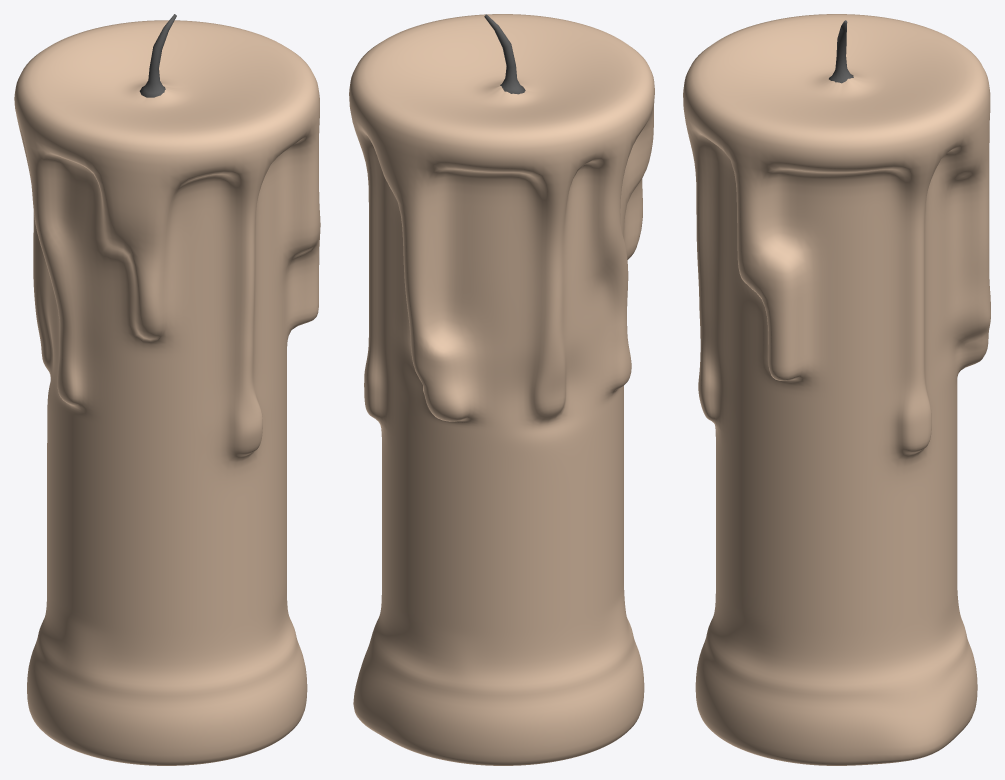
The model's file is UzunMum.fbx.
3 views of the same model, side by side, from view 1: azimuth 30°, elevation 25°; view 2: azimuth 150°, elevation 25°; view 3: azimuth 270°, elevation 25° (orthographic).
Parts seen in each view (by area): view 1: ÇevreMum; view 2: ÇevreMum; view 3: ÇevreMum.
Part boxes in pixels (x1,y1,x2,y2): ÇevreMum: [14, 14, 320, 765]; ÇevreMum: [349, 14, 654, 765]; ÇevreMum: [683, 14, 990, 765].
Bounding box in the file's own units: 8.4 × 20.93 × 8.4.
